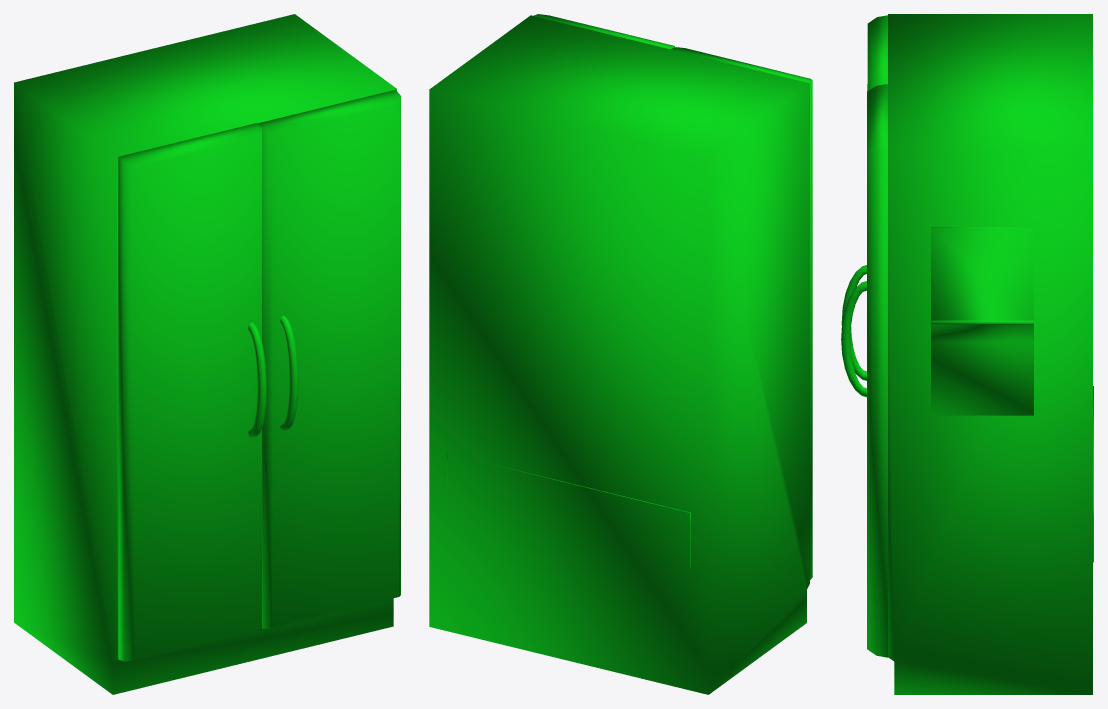
Rendered from fridge.fbx.
3 views of the same model, side by side, from view 1: azimuth 30°, elevation 25°; view 2: azimuth 150°, elevation 25°; view 3: azimuth 270°, elevation 25° (orthographic).
Parts seen in each view (by area): view 1: Fridge; view 2: Fridge; view 3: Fridge.
Boxes of the visible parts, x1,y1,x2,y2 form: Fridge: (14,14,400,694); Fridge: (429,14,812,694); Fridge: (841,14,1093,694).
Bounding box in the file's own units: 159 × 286 × 121.
